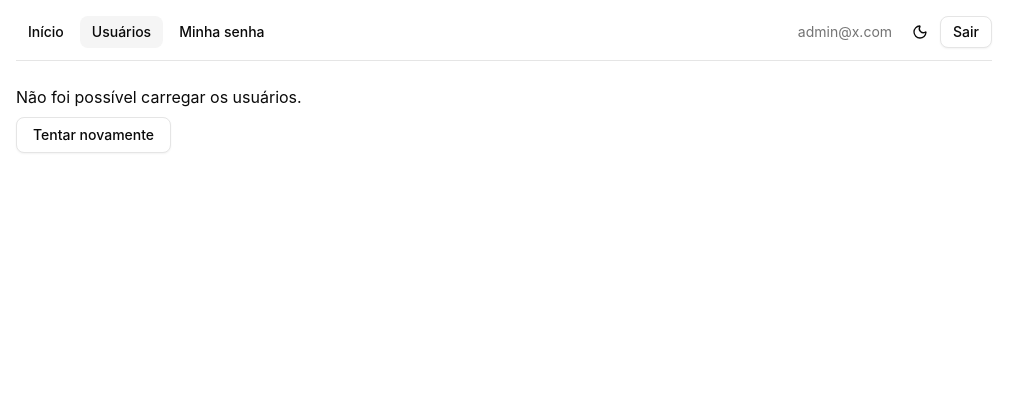
Scenario: UserDetail on /users/$id › shows error and retries
Check: the text "Não foi possível carregar os usuários." is shown, box [16,87,302,107]
Click the button "Tentar novamente".
click(94, 135)  # box [16,117,171,153]
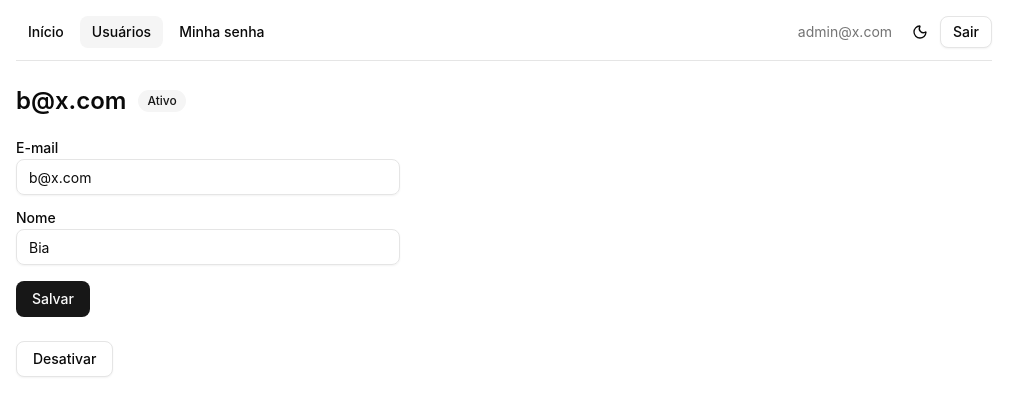
Check: the heading "b@x.com" is shown, box [16,85,126,117]
